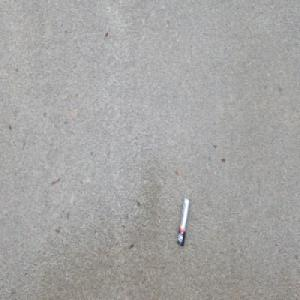Battery: (175, 196, 189, 248)
